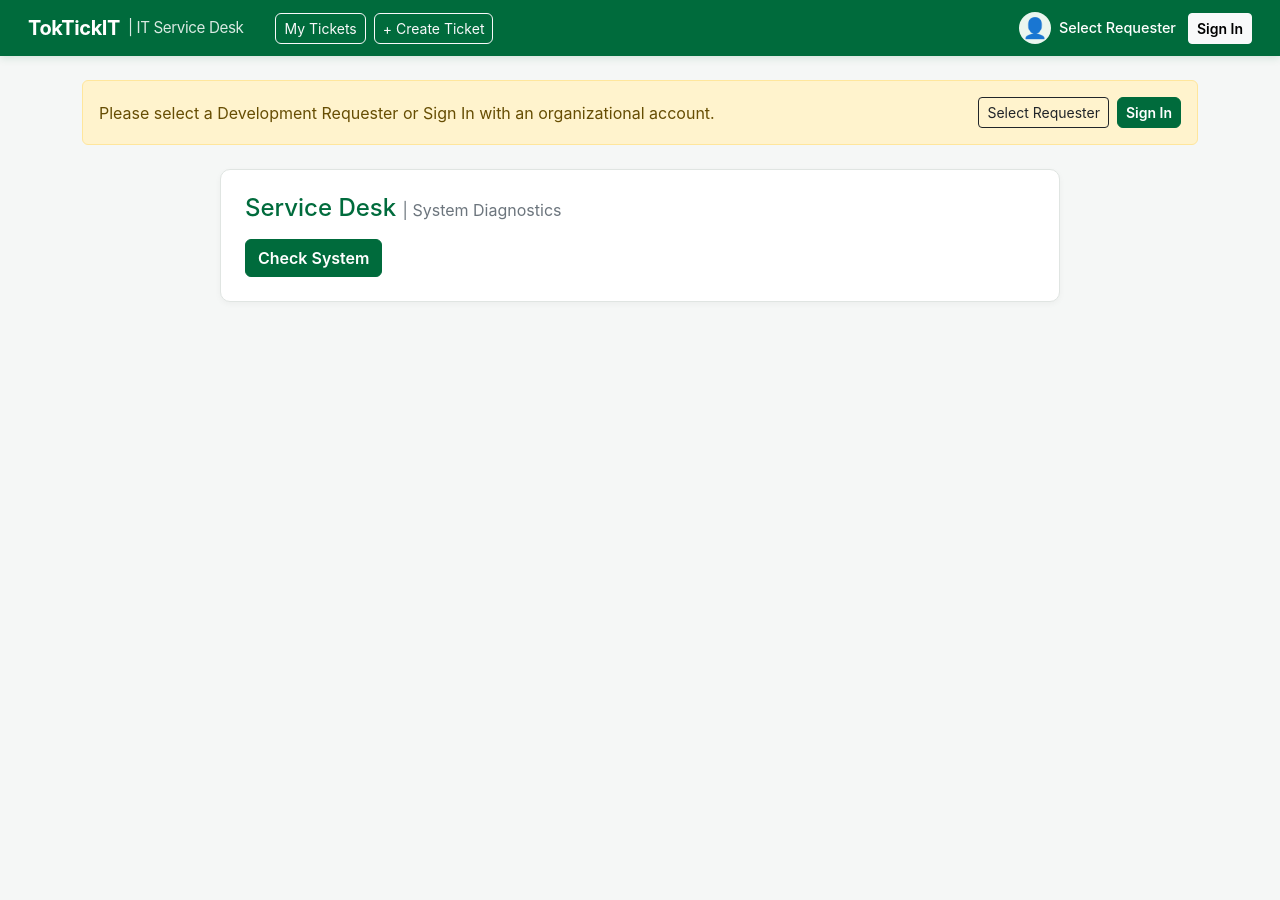
Test: Lab 3 Auth Flow (UI-01, AC-01..03, TEST-AUTH-01..06) › successfully signs in as IT Staff, updates header with role badge, and clears login view
The width and height of the screenshot is (1280, 900).
Click the button with test id "sign-in-prompt-button" at (1149, 112), box [1117,97,1181,128]
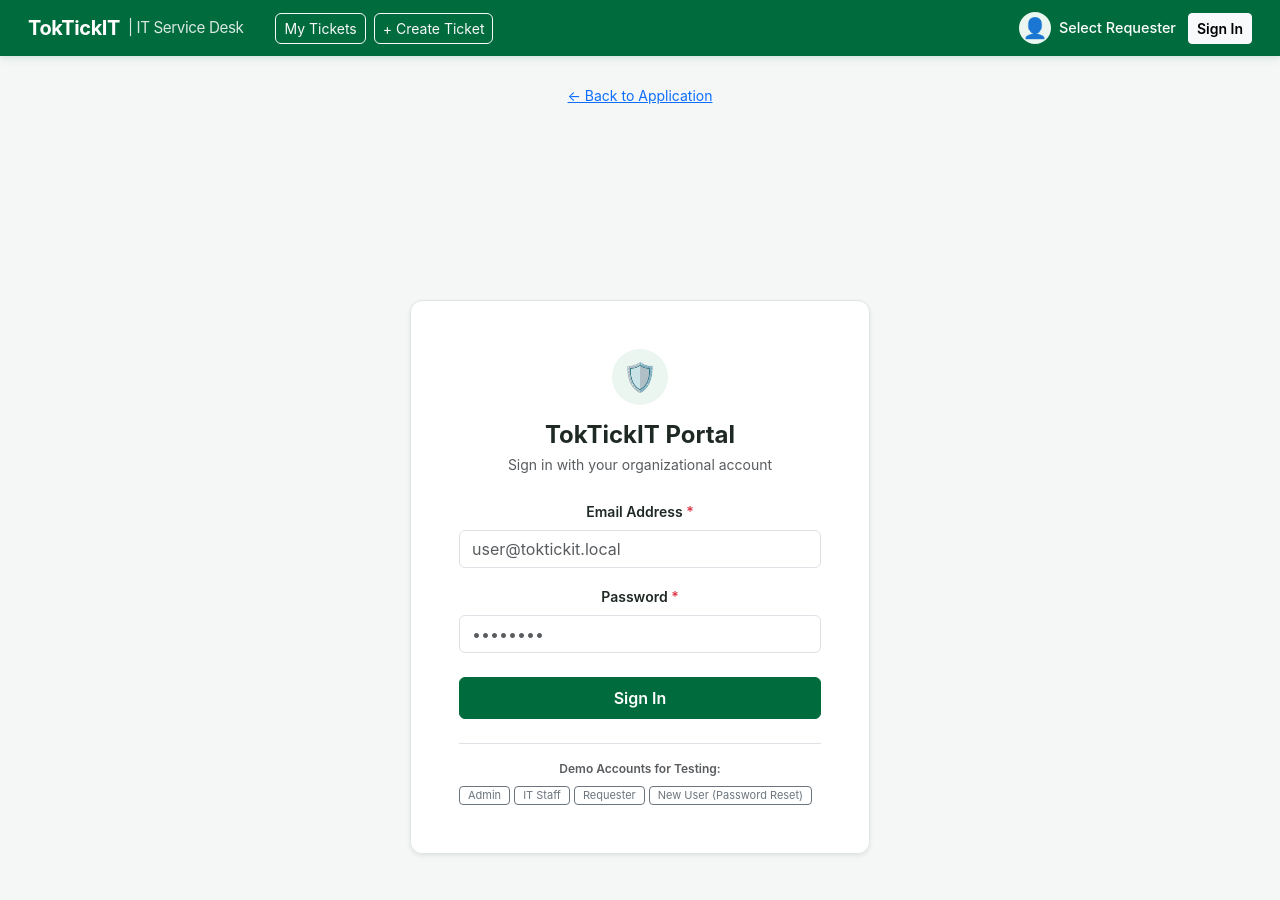
Type "staff1@toktickit.local" into the field with test id "login-email-input" at (640, 549), box [459,530,821,568]
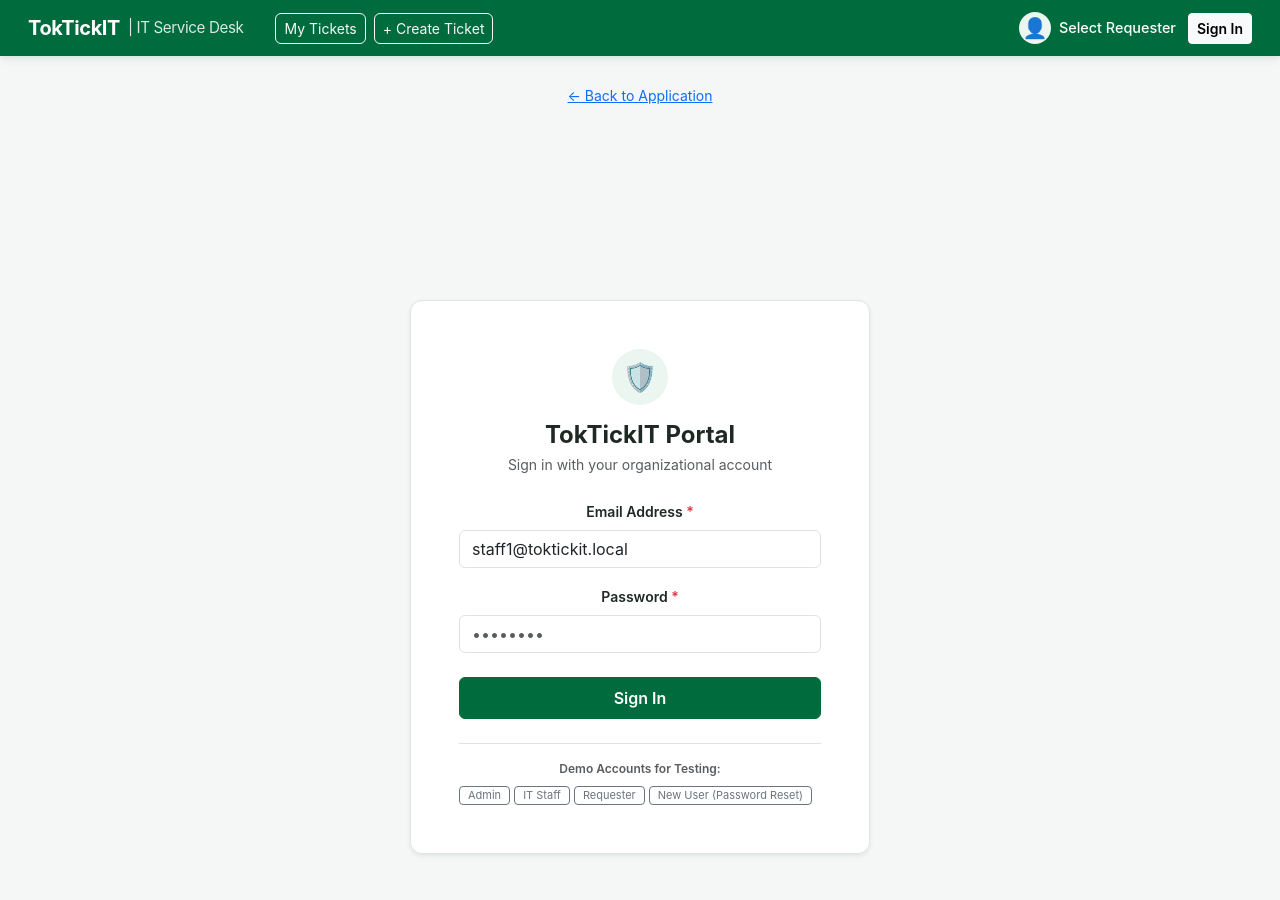
Type "Password123!" into the password field with test id "login-password-input" at (640, 634), box [459,615,821,653]
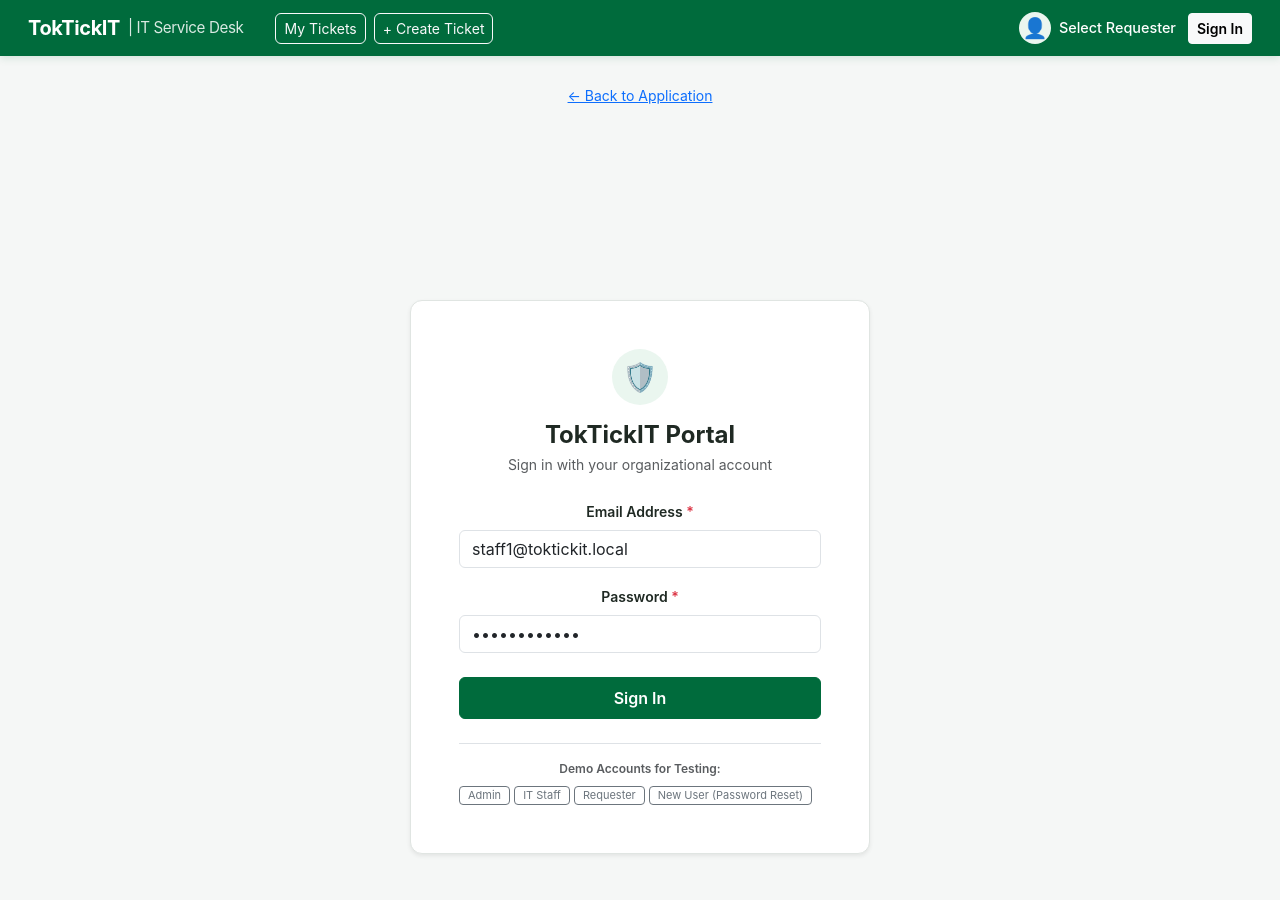
Click the button with test id "login-submit-button" at (640, 698), box [459,677,821,719]
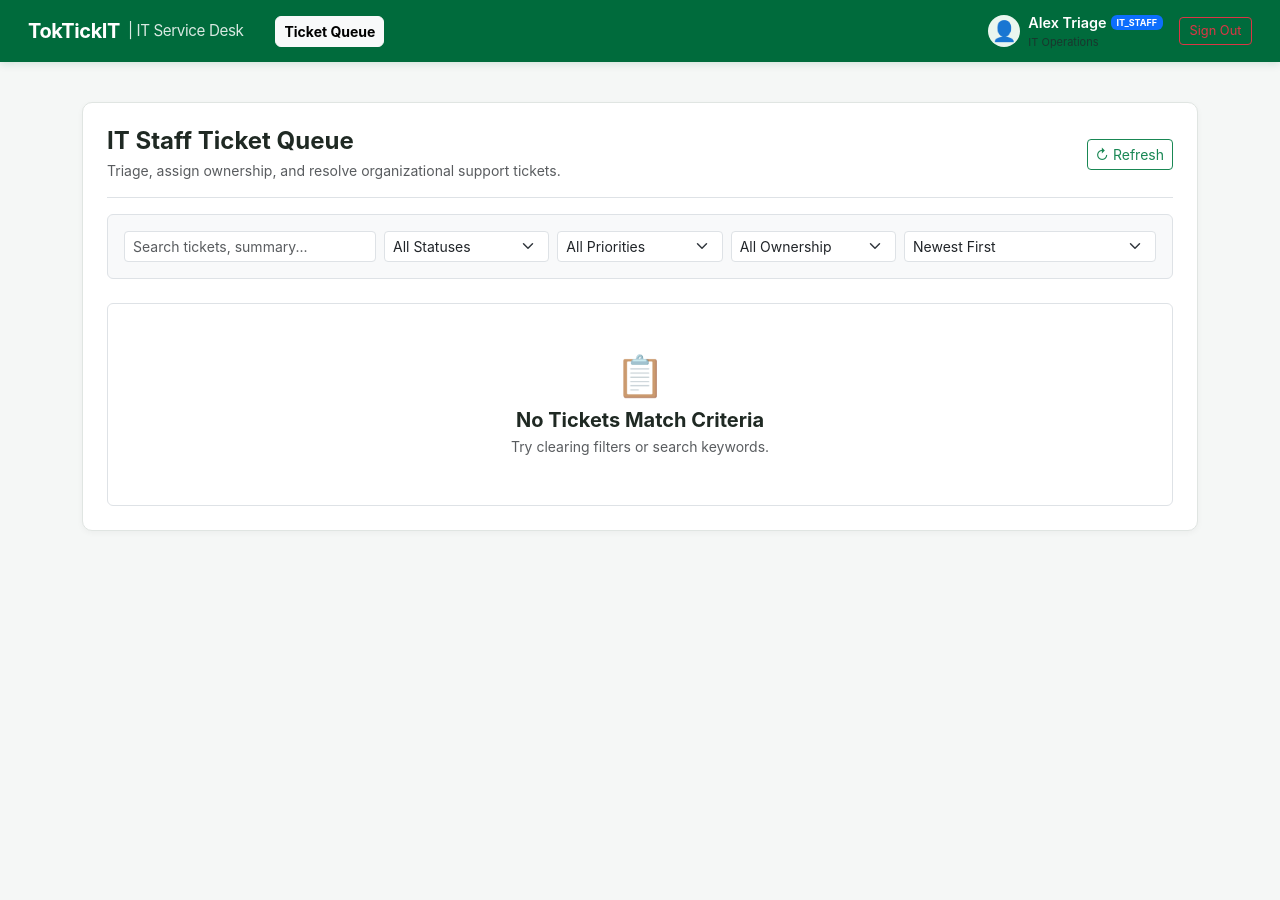
Now the element with test id "auth-user-pill" is shown, box [988,12,1252,50]
Now the text with test id "auth-user-name" reads "Alex Triage", box [1028,14,1107,31]
Now the text with test id "auth-user-role-badge" reads "IT_STAFF", box [1116,17,1157,28]
// Sign out clears state
Click the button with test id "logout-button" at (1216, 31), box [1179,17,1252,45]
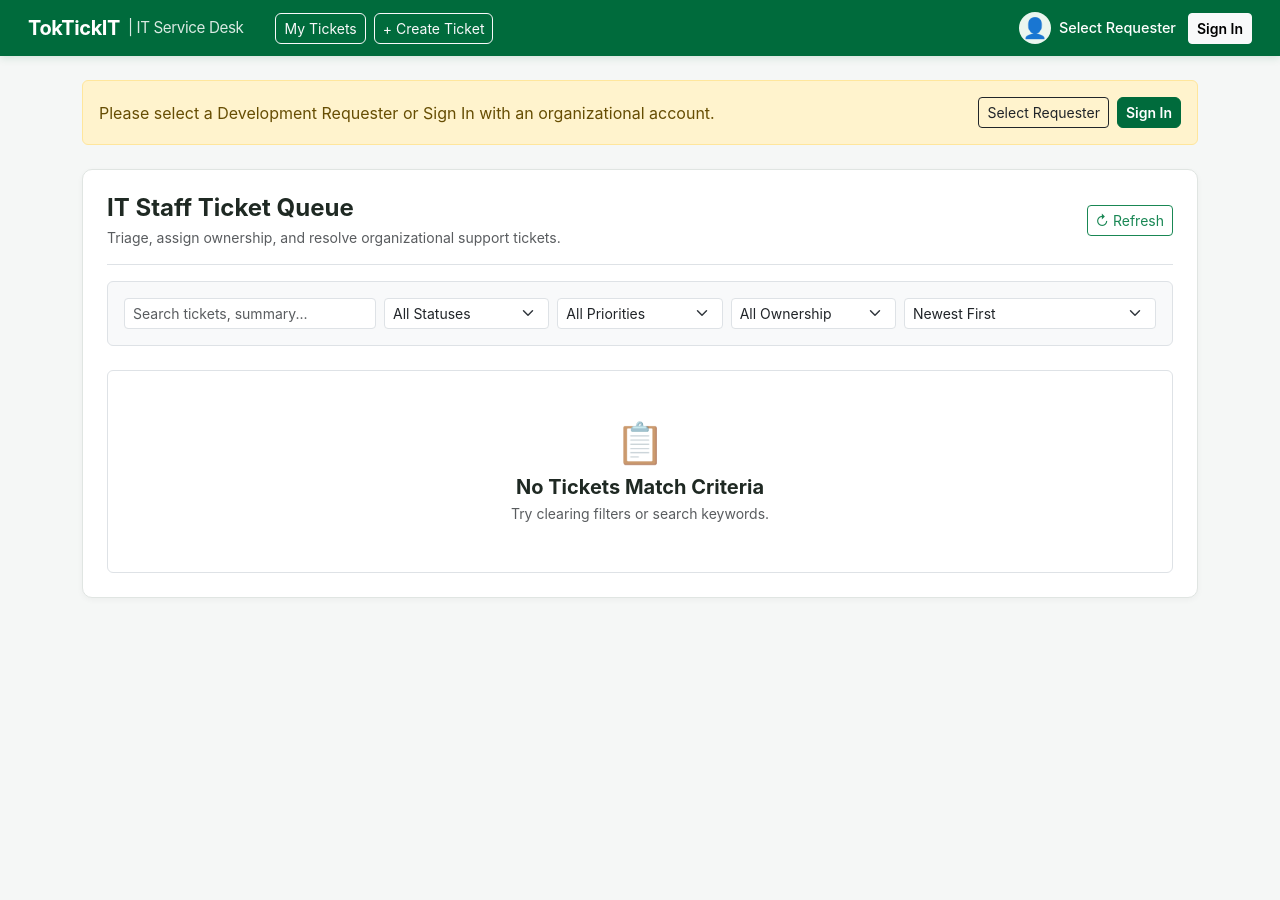
Now the button with test id "sign-in-prompt-button" is shown, box [1117,97,1181,128]
